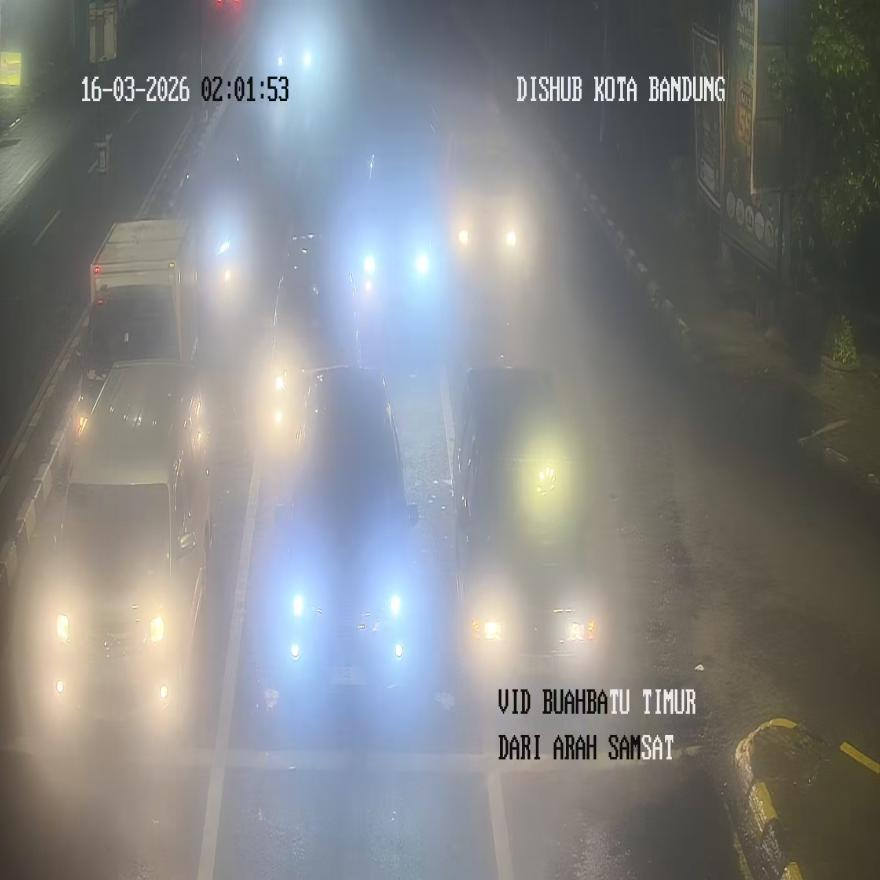Mobil: (41, 360, 212, 733), (452, 365, 604, 676), (276, 366, 420, 686)
